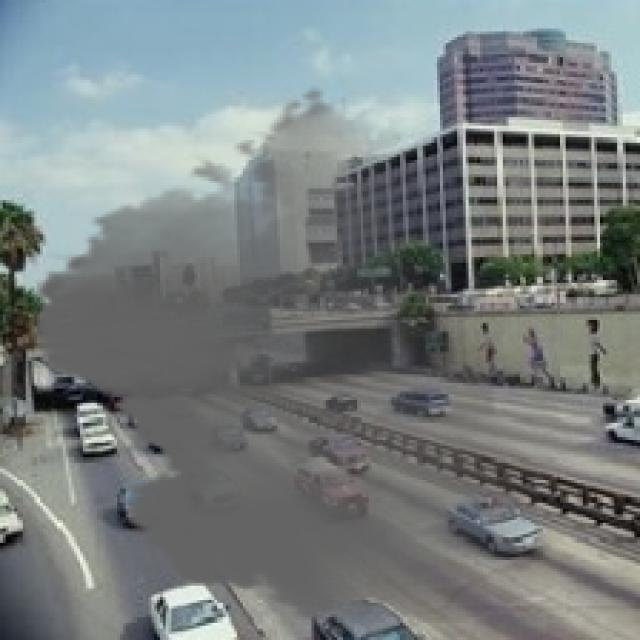Smoke: (14, 86, 583, 634)
